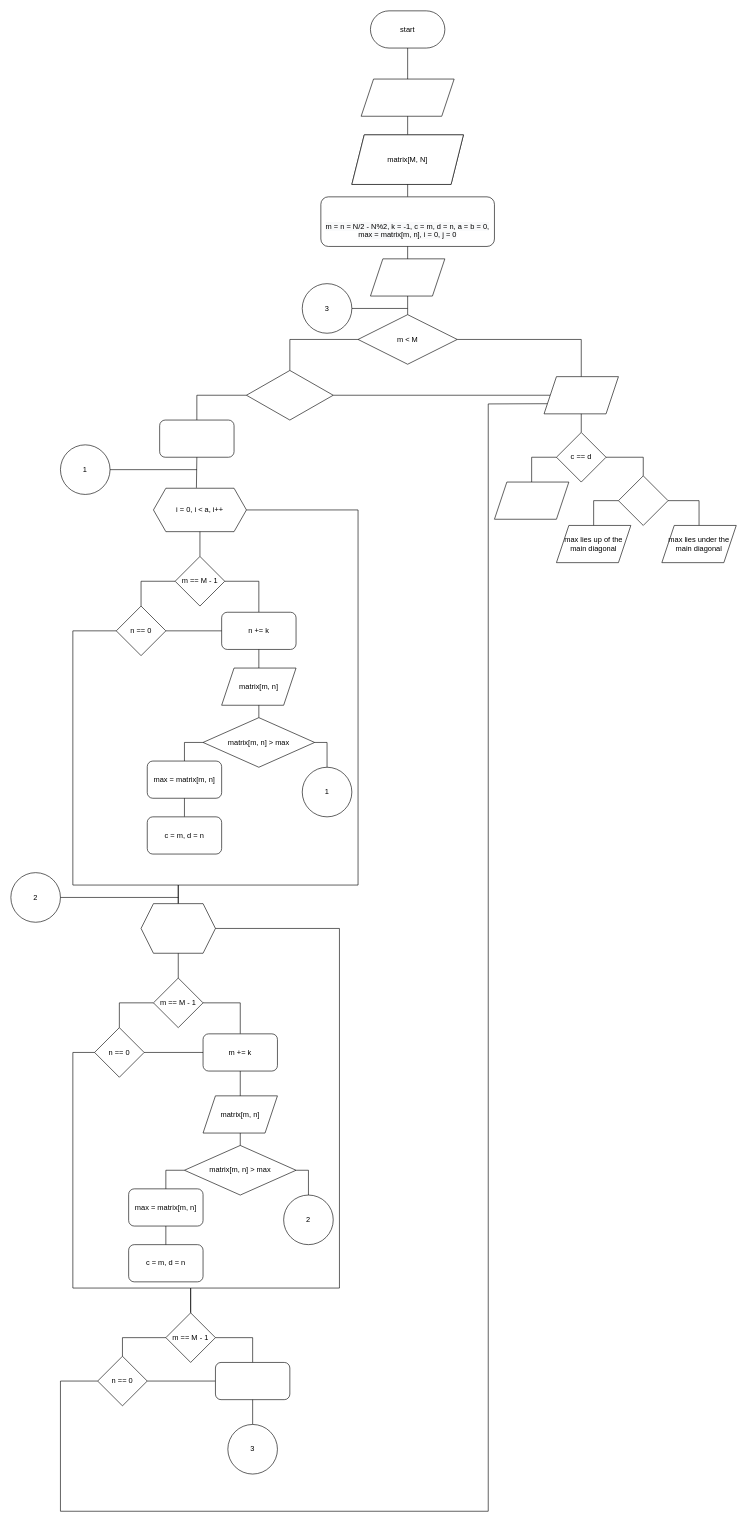
Image size: 747x1523. Some labels were removed from this diagram. The shapes that lost their labels are listed below. From the top down, each one's box as (x1, y1, x2, y2) in pixels, then its label:
(361, 78, 454, 116): M = N Є N, N % 2 != 0
(370, 258, 445, 296): matrix[m,n]
(246, 370, 333, 420): n < N
(543, 376, 618, 414): max
(159, 419, 234, 457): a += 1, b += 1
(494, 481, 569, 519): max lies on main diagonal
(618, 475, 668, 525): c < d
(140, 903, 215, 953): j = 0, j < b, j++
(215, 1362, 290, 1400): k *= -1
